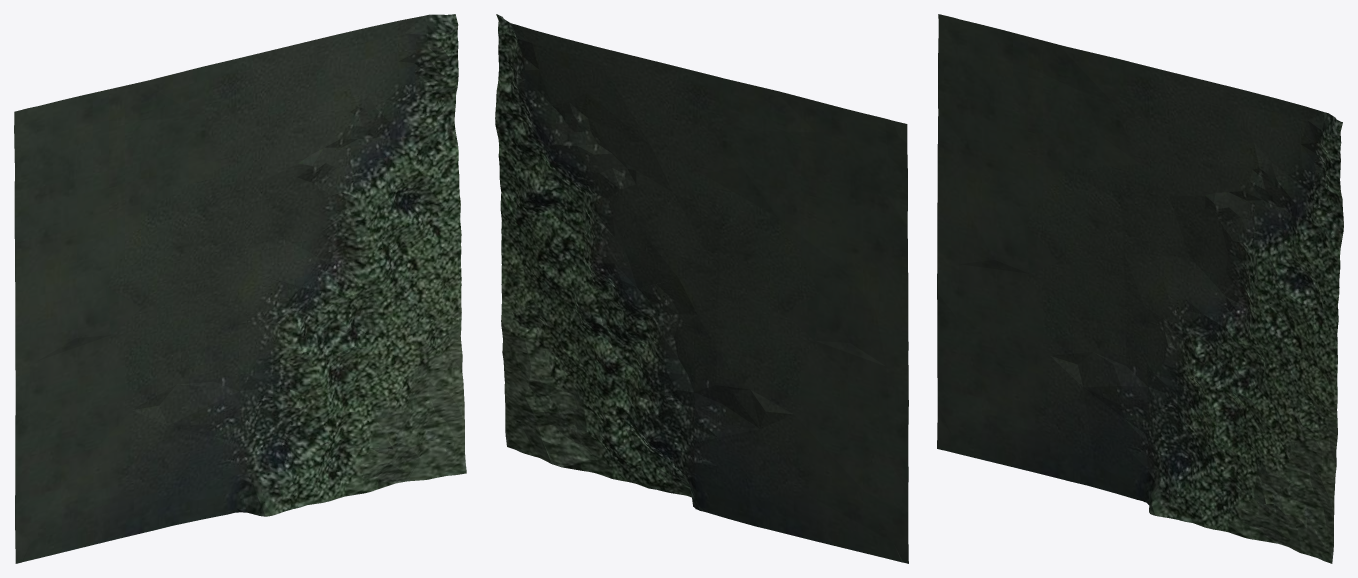
File: Tile_+032_+024_L21_00032100.obj
The picture shows the model from 3 angles, left to right: view 1: azimuth 30°, elevation 25°; view 2: azimuth 150°, elevation 25°; view 3: azimuth 330°, elevation 25°; orthographic projection. The views are drawn at different scales.
Size of the model in its own units: 31.38 by 31.38 by 2.73.
Materials: 1 (1 with a texture image).
